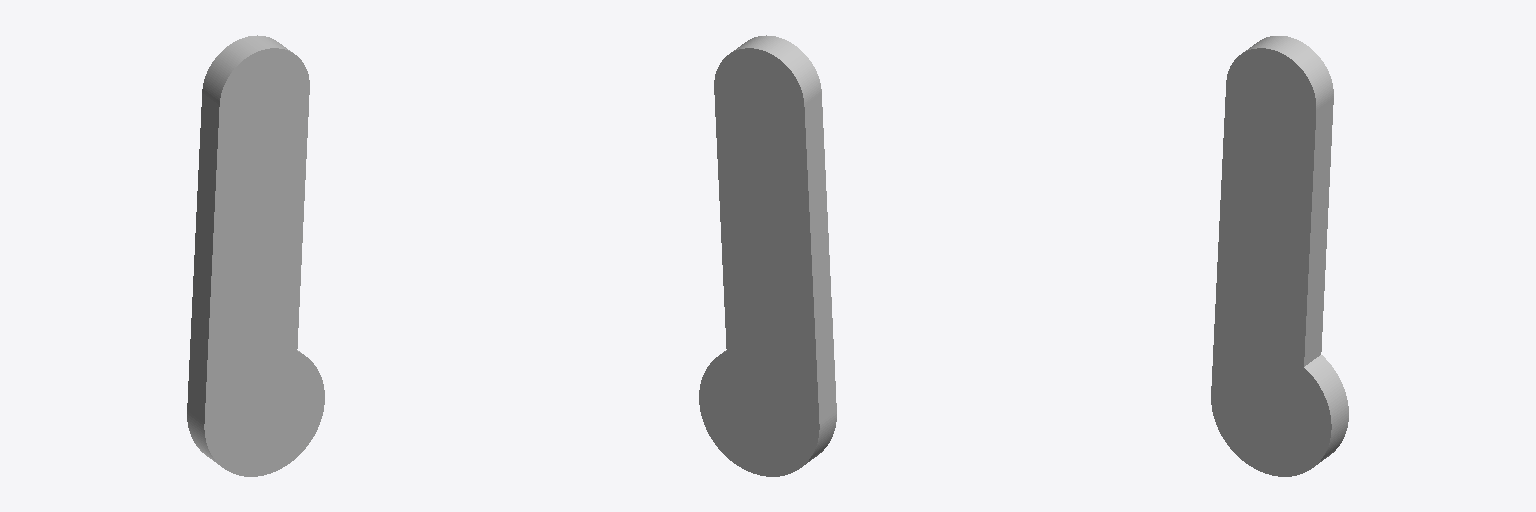
File: shoulder.obj
3 views of the same model, side by side, from view 1: azimuth 30°, elevation 25°; view 2: azimuth 150°, elevation 25°; view 3: azimuth 330°, elevation 25° (orthographic).
Parts seen in each view (by area): view 1: Part_Studio_1_-_Shoulder; view 2: Part_Studio_1_-_Shoulder; view 3: Part_Studio_1_-_Shoulder.
Boxes of the visible parts, x1,y1,x2,y2 form: Part_Studio_1_-_Shoulder: [187, 35, 324, 476]; Part_Studio_1_-_Shoulder: [699, 35, 836, 476]; Part_Studio_1_-_Shoulder: [1211, 36, 1348, 476].
Bounding box in the file's own units: 400 × 1350 × 100.